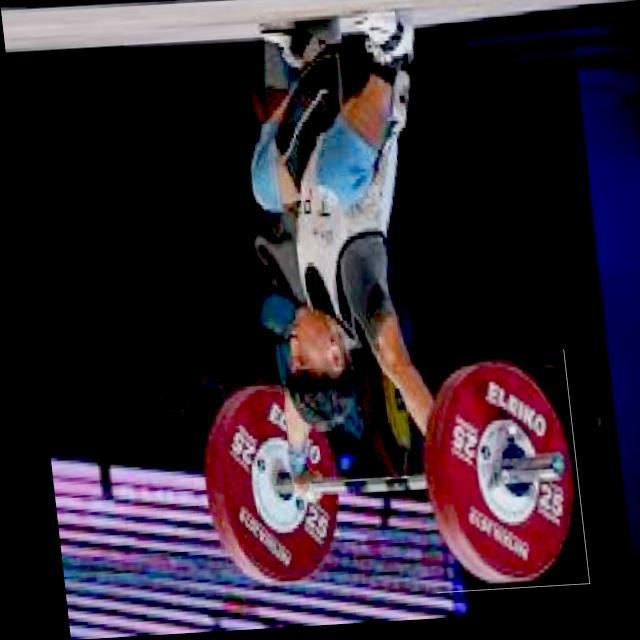barbell: (403, 357, 577, 599)
